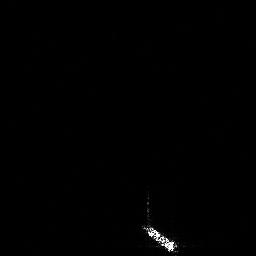ship: (137, 220, 180, 256)
